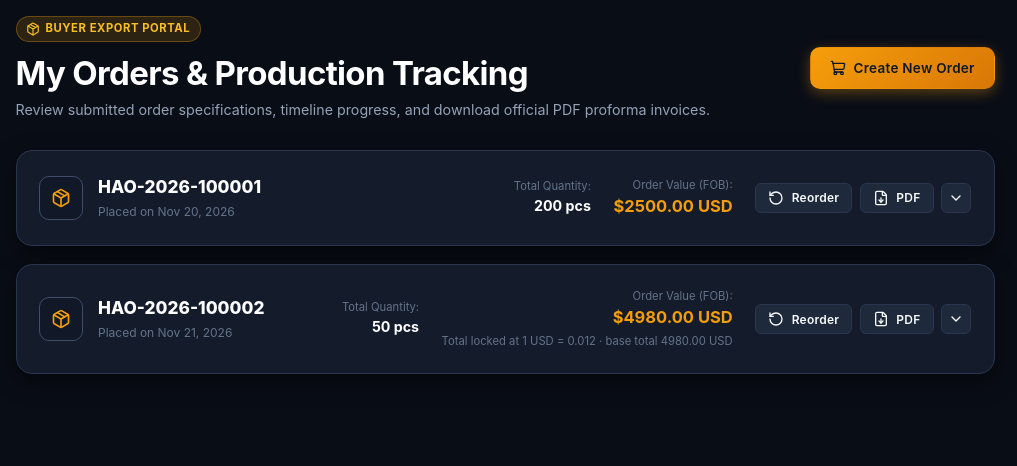
Test: My Orders reorder (v0.5 F3) › shows an error banner when the reorder fails
The image size is (1017, 466).
Expected: the text "HAO-2026-100001" is shown, [98,174,261,200]
Click the button "Reorder" in the row of "2500.00" at (804, 198), box [755,183,852,213]
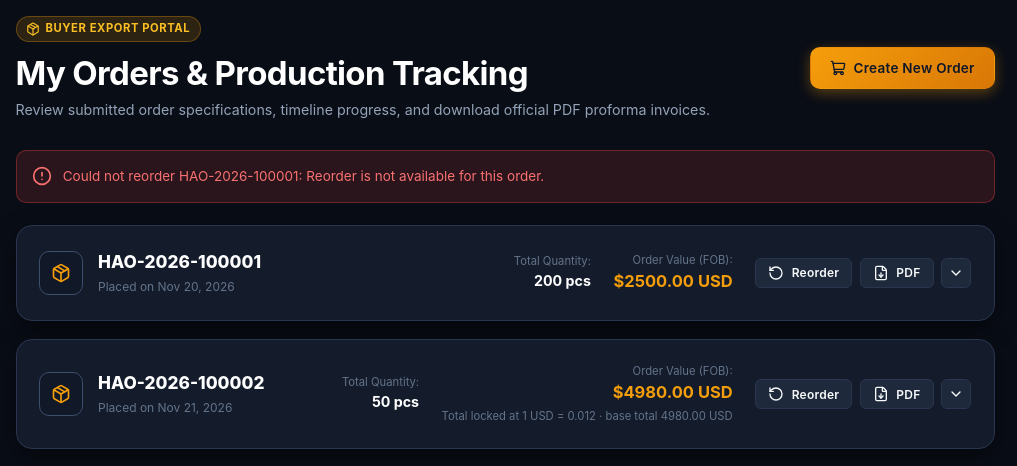
Expected: the text "Could not reorder HAO-2026-100001: Reorder is not available for this order." is shown, [63,166,544,187]
